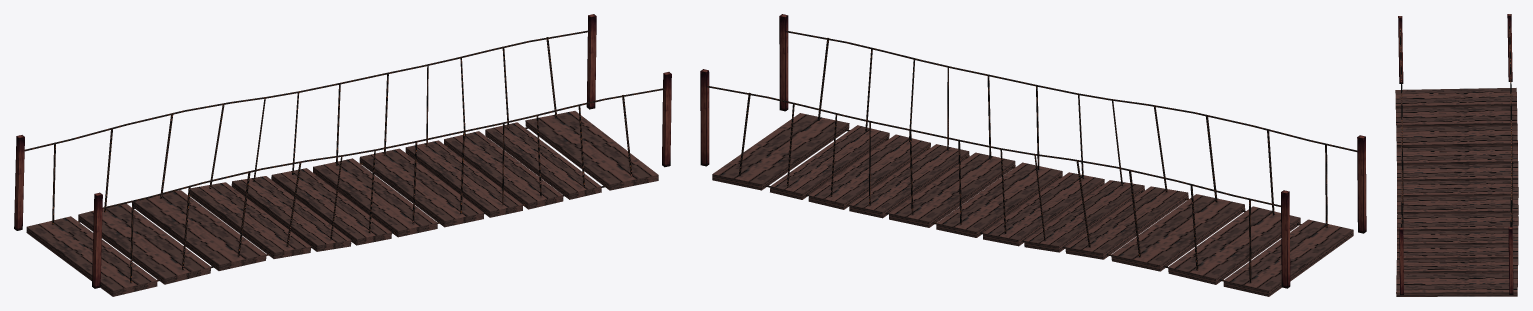
Rendered from bridge2.glb.
The picture shows the model from 3 angles, left to right: view 1: azimuth 30°, elevation 25°; view 2: azimuth 150°, elevation 25°; view 3: azimuth 270°, elevation 25°; orthographic projection. The views are drawn at different scales.
Visible parts, largest first — view 1: Cube.019; view 2: Cube.019; view 3: Cube.019.
Part boxes in pixels (x1=…): Cube.019: x1=14, y1=14, x2=671, y2=296; Cube.019: x1=700, y1=14, x2=1366, y2=296; Cube.019: x1=1395, y1=14, x2=1518, y2=296.
Size of the model in its own units: 3.93 by 0.7951 by 1.01.
44 materials, 44 textured.
